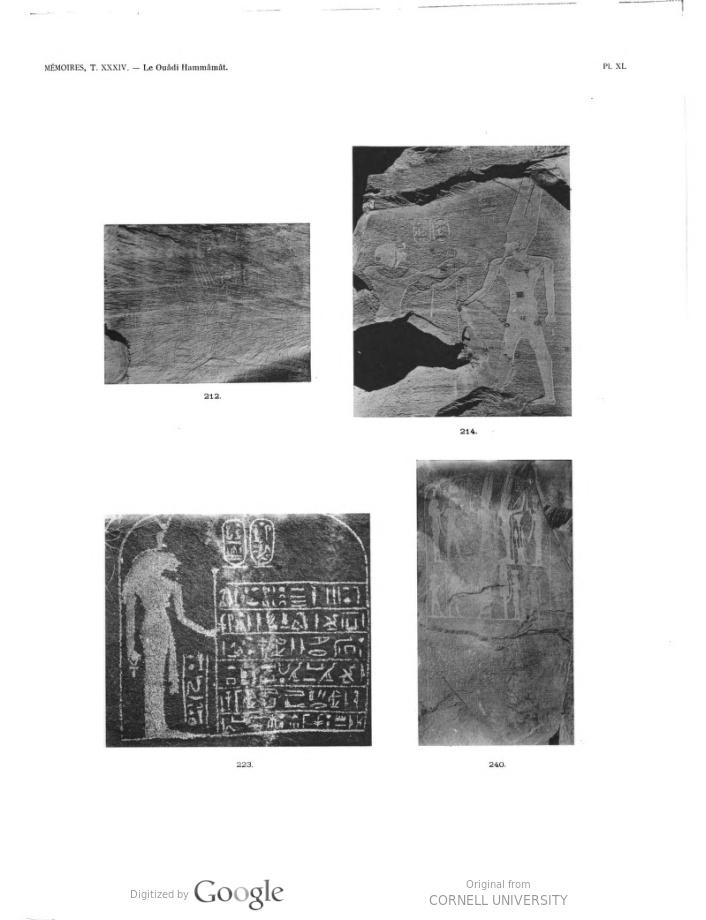circle: (240, 512, 291, 571), (209, 515, 256, 571), (426, 211, 458, 256), (404, 215, 435, 248)
